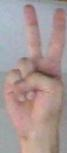V: (0, 2, 67, 153)
